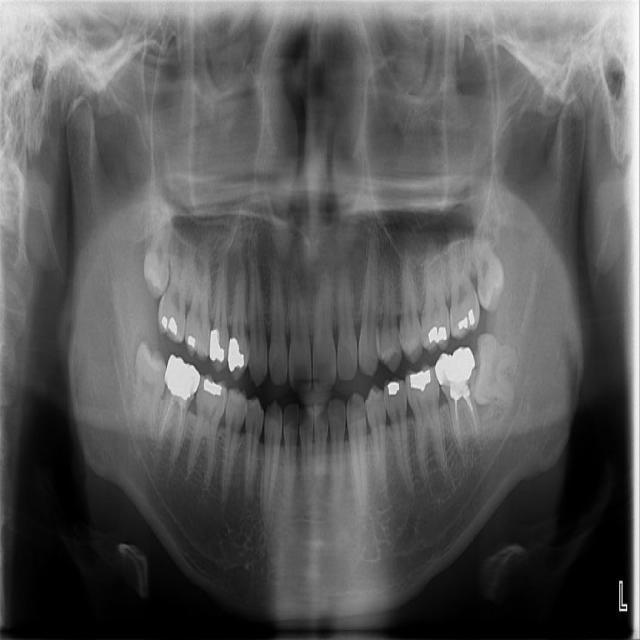3M ESPE Implant: (140, 195, 177, 301)
52: (428, 343, 483, 397), (396, 358, 448, 412), (155, 353, 206, 406), (190, 370, 234, 418), (154, 290, 189, 345), (419, 300, 450, 355), (450, 285, 480, 341), (184, 308, 213, 361), (224, 334, 252, 383), (208, 324, 231, 372), (382, 377, 407, 420), (243, 324, 250, 345)
73: (443, 380, 491, 454), (151, 386, 193, 466), (598, 590, 616, 610)
BioHorizons Implant: (446, 232, 481, 341)
BioLife Implant: (467, 221, 510, 315)
Biomet 3i Implant: (466, 331, 523, 410)
Blue Sky Bio Implant: (431, 344, 499, 455)
Caries: (154, 229, 193, 344)
Implant: (142, 353, 205, 466)
Keystone Dental Implant: (130, 340, 170, 442)
